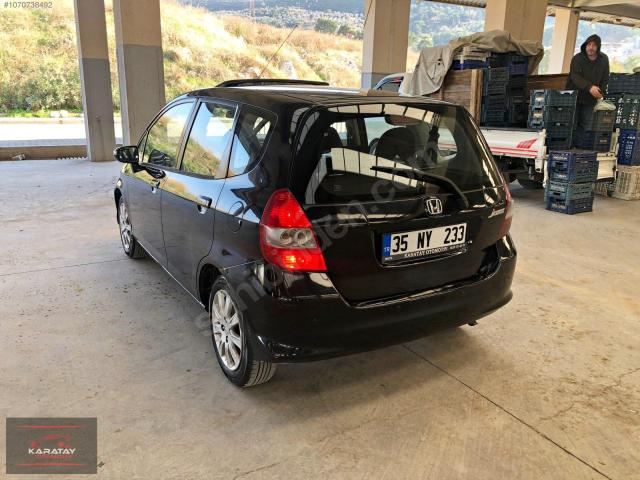plaka: (382, 223, 466, 262)
